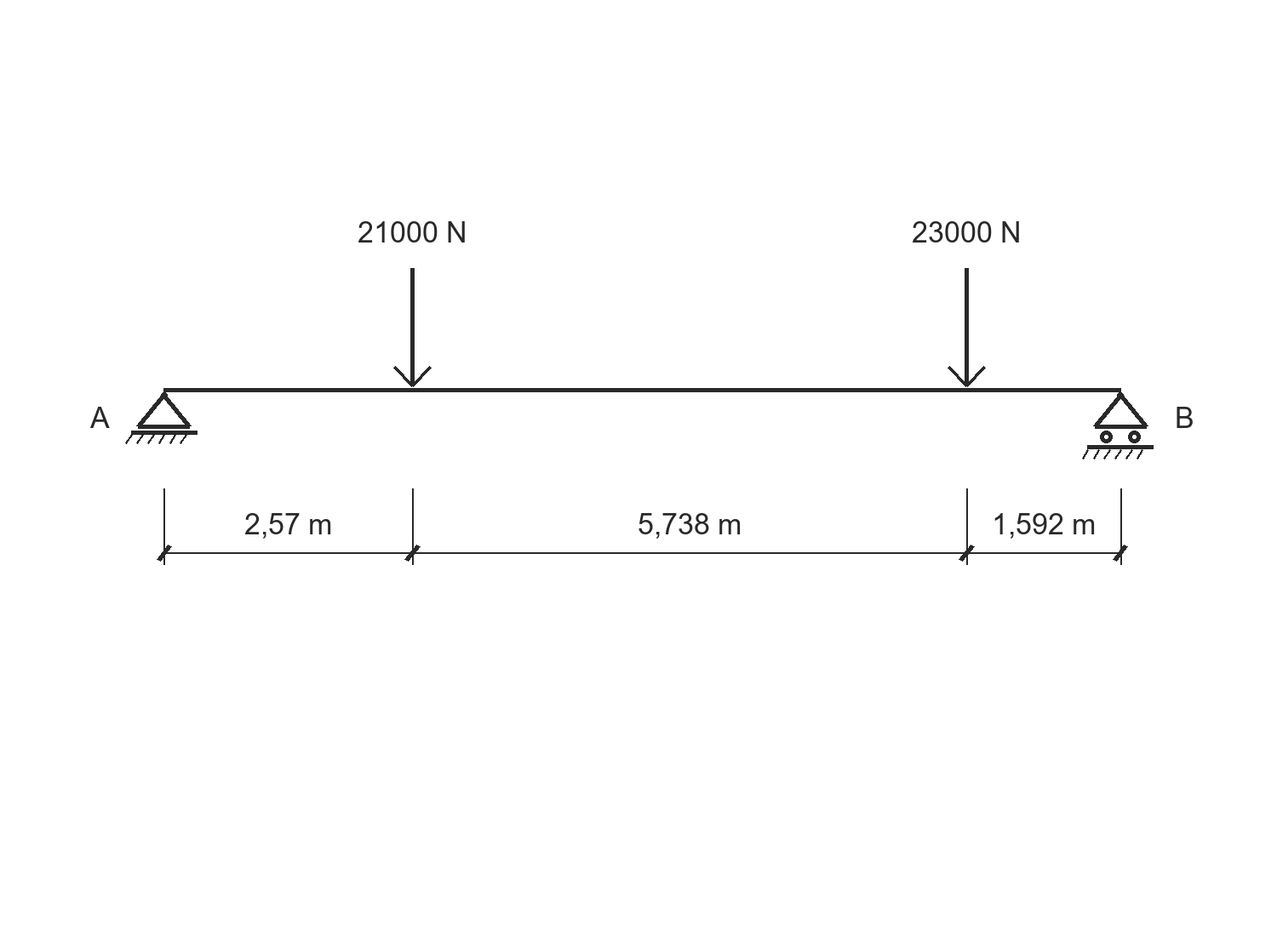pin_support: (125, 392, 198, 444)
point_load: (393, 268, 432, 387), (948, 268, 986, 387)
roller_support: (1082, 392, 1154, 459)
